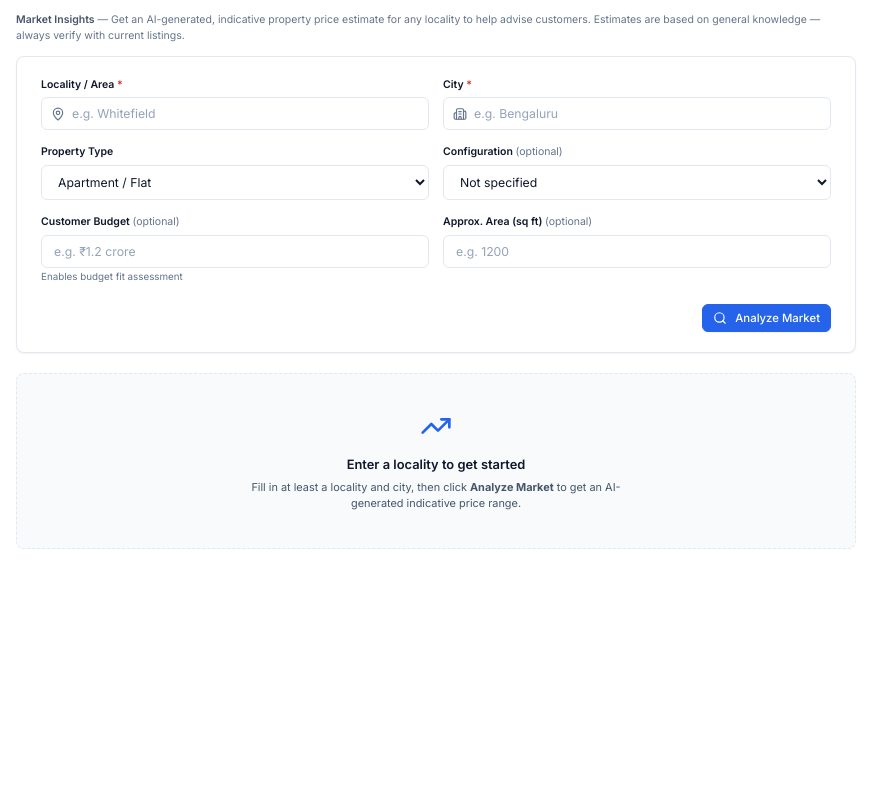
MarketInsights — Success Results › displays locality and city in result header
Type "Whitefield" into the field with placeholder "e.g. Whitefield" at point(235, 114), box [41,97,429,130]
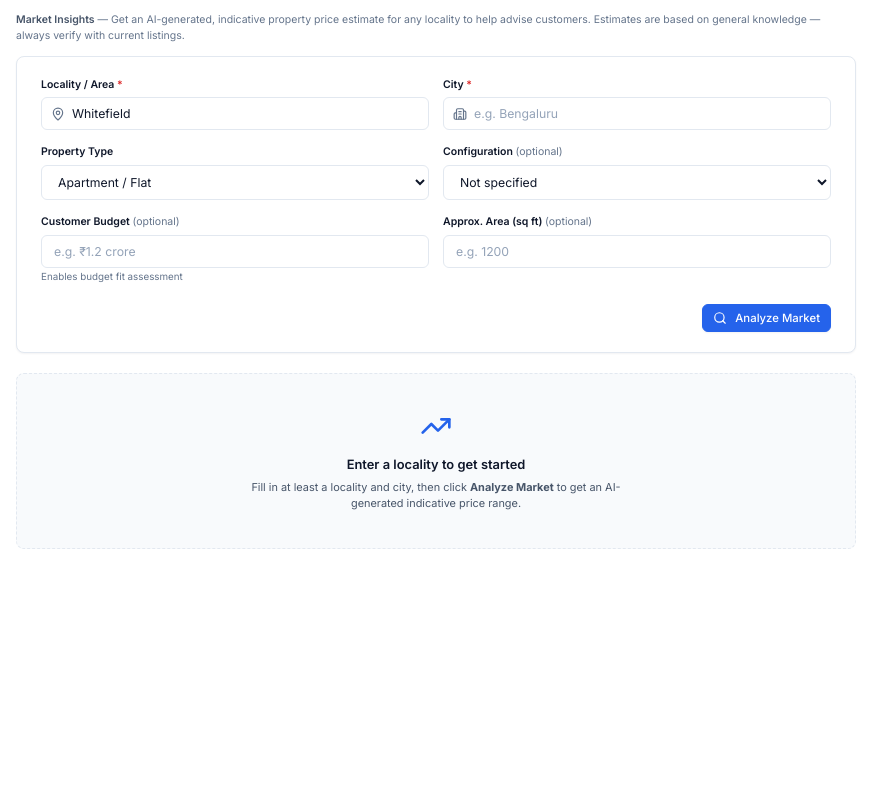
Type "Bengaluru" into the field with placeholder "e.g. Bengaluru" at point(637, 114), box [443,97,831,130]
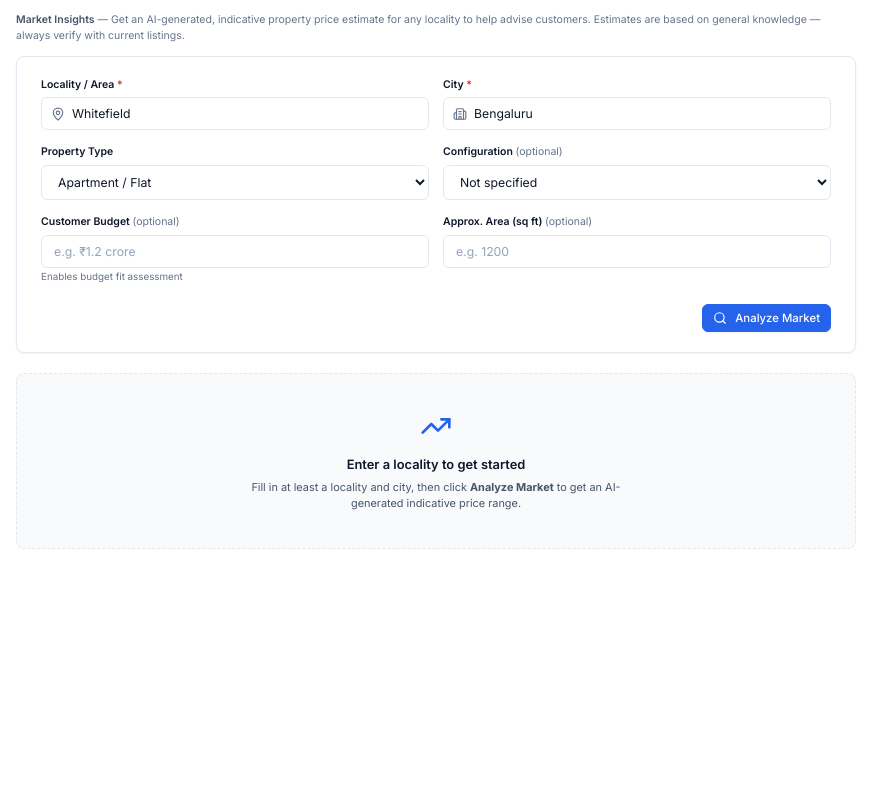
Click the button "Analyze Market" at point(767, 318), box [702,304,831,332]
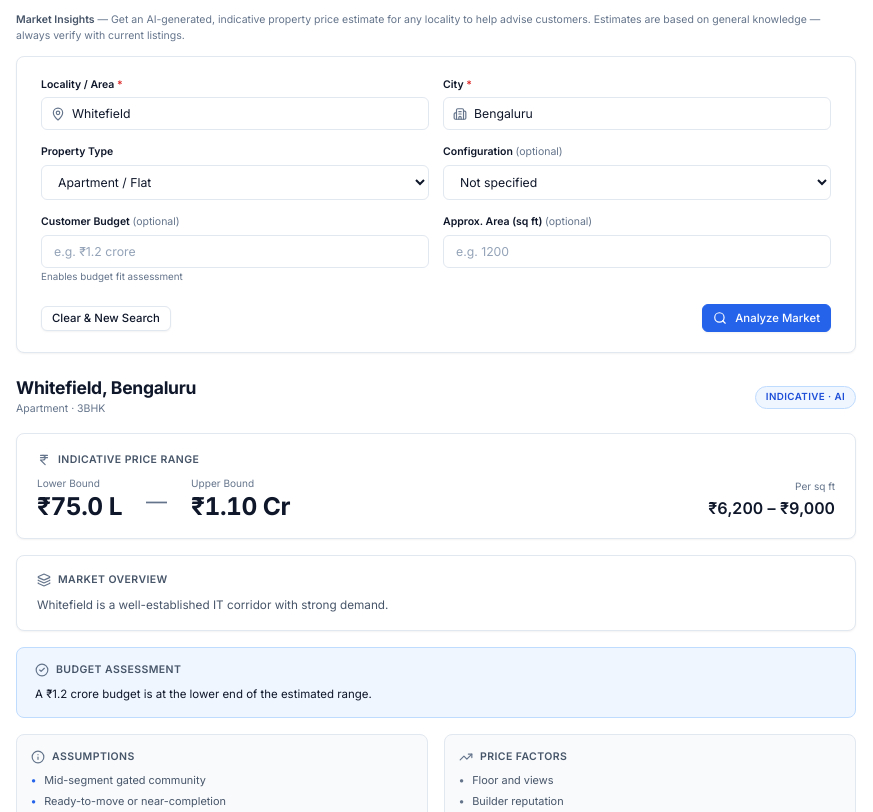
Expected: the heading "Whitefield, Bengaluru" is shown, [16,377,196,399]
